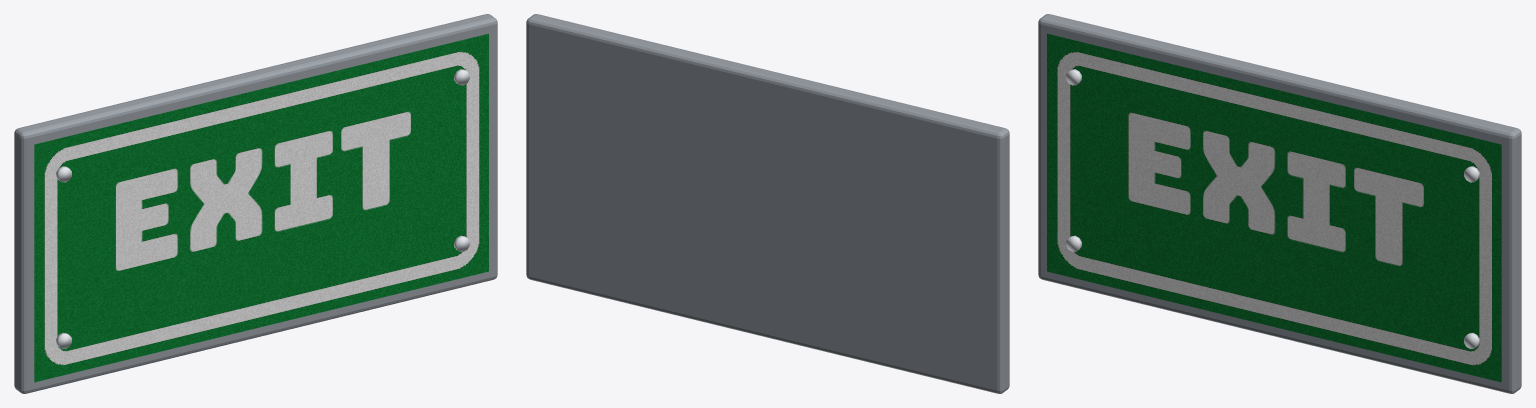
The model's file is Wall_Sign_Exit.fbx.
3 renders of one model, left to right at view 1: azimuth 30°, elevation 25°; view 2: azimuth 150°, elevation 25°; view 3: azimuth 330°, elevation 25°, orthographic.
Parts seen in each view (by area): view 1: Wall_Sign_Exit; view 2: Wall_Sign_Exit; view 3: Wall_Sign_Exit.
Part boxes in pixels (x1,y1,x2,y2): Wall_Sign_Exit: (14, 14, 497, 393); Wall_Sign_Exit: (526, 14, 1009, 393); Wall_Sign_Exit: (1038, 14, 1521, 393).
Size of the model in its own units: 0.84 by 0.44 by 0.041.
Materials: 3 (1 with a texture image).
